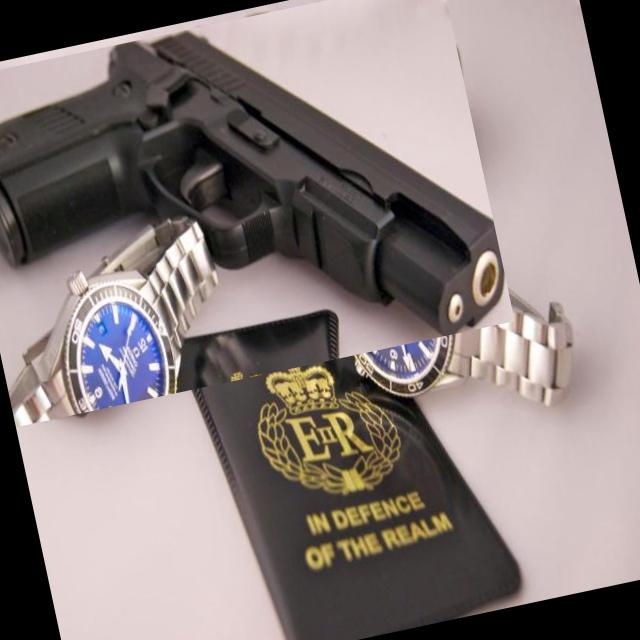Gun: (0, 32, 505, 335)
